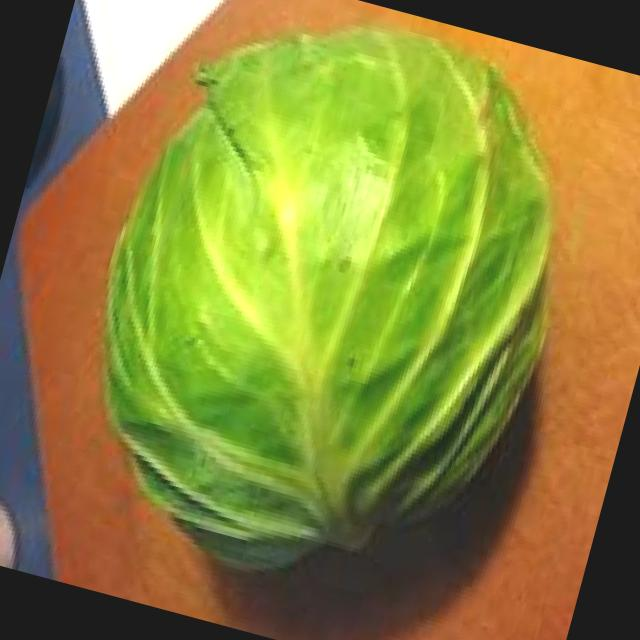cabbage: (14, 0, 614, 631)
